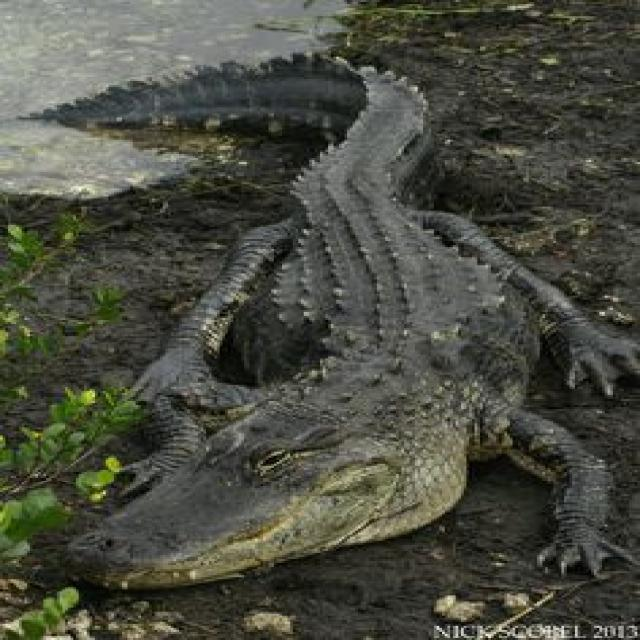Carnivorous: (54, 63, 640, 593)
